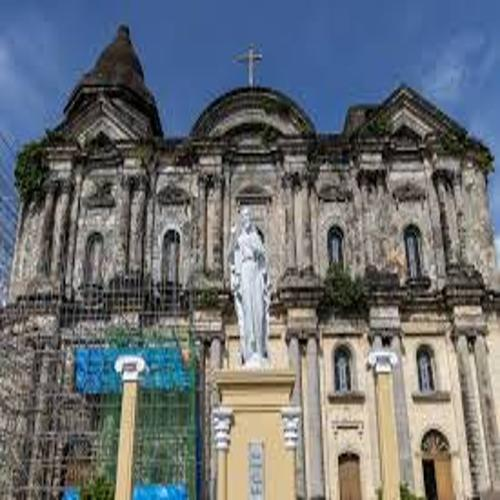Taal Basilica Church: (8, 19, 500, 500)
